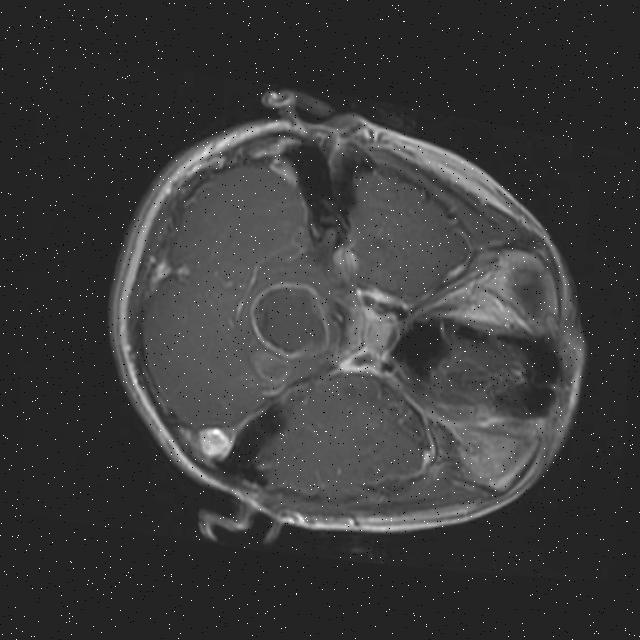Glioma: (240, 274, 339, 366), (241, 346, 296, 389)
Pituitary: (360, 313, 398, 354)
